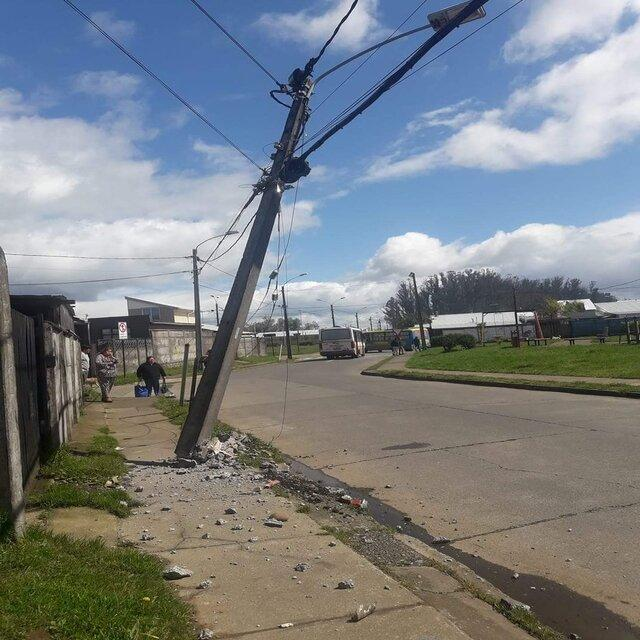Inclined Pole: (170, 0, 493, 459)
